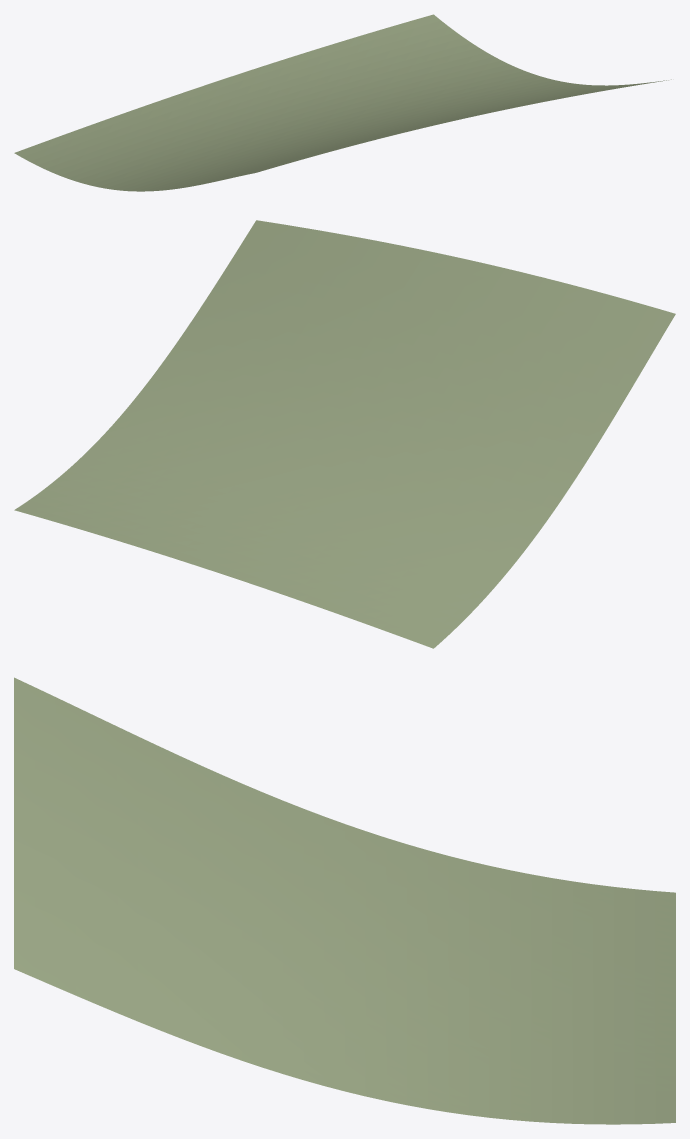
The model's file is expanse-25-20.glb.
3 renders of one model, top to bottom at view 1: azimuth 30°, elevation 25°; view 2: azimuth 150°, elevation 25°; view 3: azimuth 270°, elevation 25°, orthographic. The views are drawn at different scales.
Parts seen in each view (by area): view 1: expanse-25-20; view 2: expanse-25-20; view 3: expanse-25-20.
Boxes of the visible parts, x1,y1,x2,y2 form: expanse-25-20: [14, 14, 671, 191]; expanse-25-20: [14, 220, 675, 648]; expanse-25-20: [14, 677, 675, 1124].
Size of the model in its own units: 256 by 94.19 by 256.
